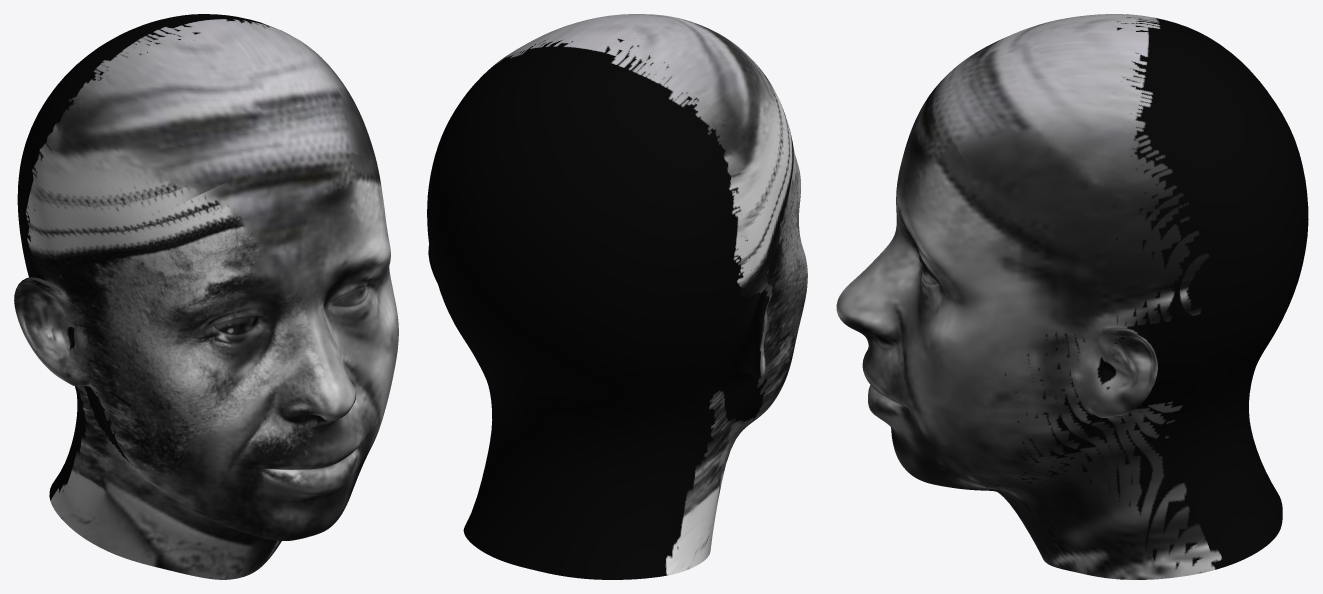
File: lateef.glb
3 views of the same model, side by side, from view 1: azimuth 30°, elevation 25°; view 2: azimuth 150°, elevation 25°; view 3: azimuth 270°, elevation 25° (orthographic). The views are drawn at different scales.
Parts seen in each view (by area): view 1: FBHead.006; view 2: FBHead.006; view 3: FBHead.006.
Part boxes in pixels (x1=…): FBHead.006: x1=14, y1=14, x2=398, y2=579; FBHead.006: x1=427, y1=14, x2=807, y2=579; FBHead.006: x1=836, y1=14, x2=1308, y2=579.
Bounding box in the file's own units: 1.59 × 2.32 × 1.9.
1 material, 1 textured.
